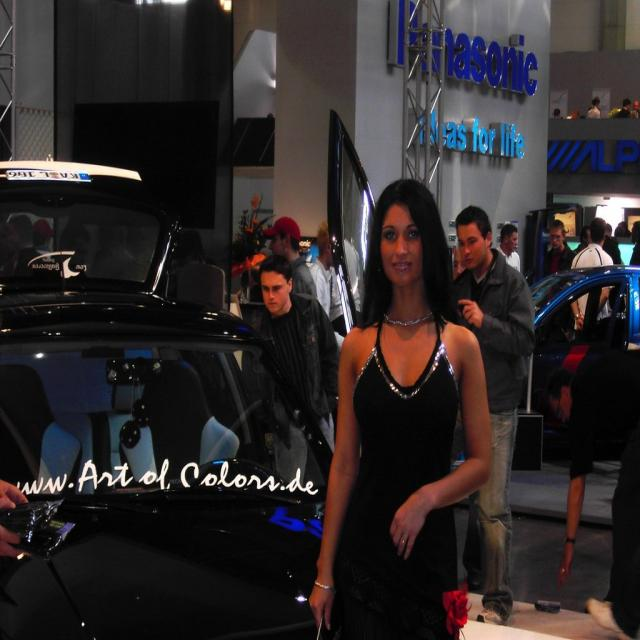other: (0, 161, 334, 639), (522, 262, 640, 425)
